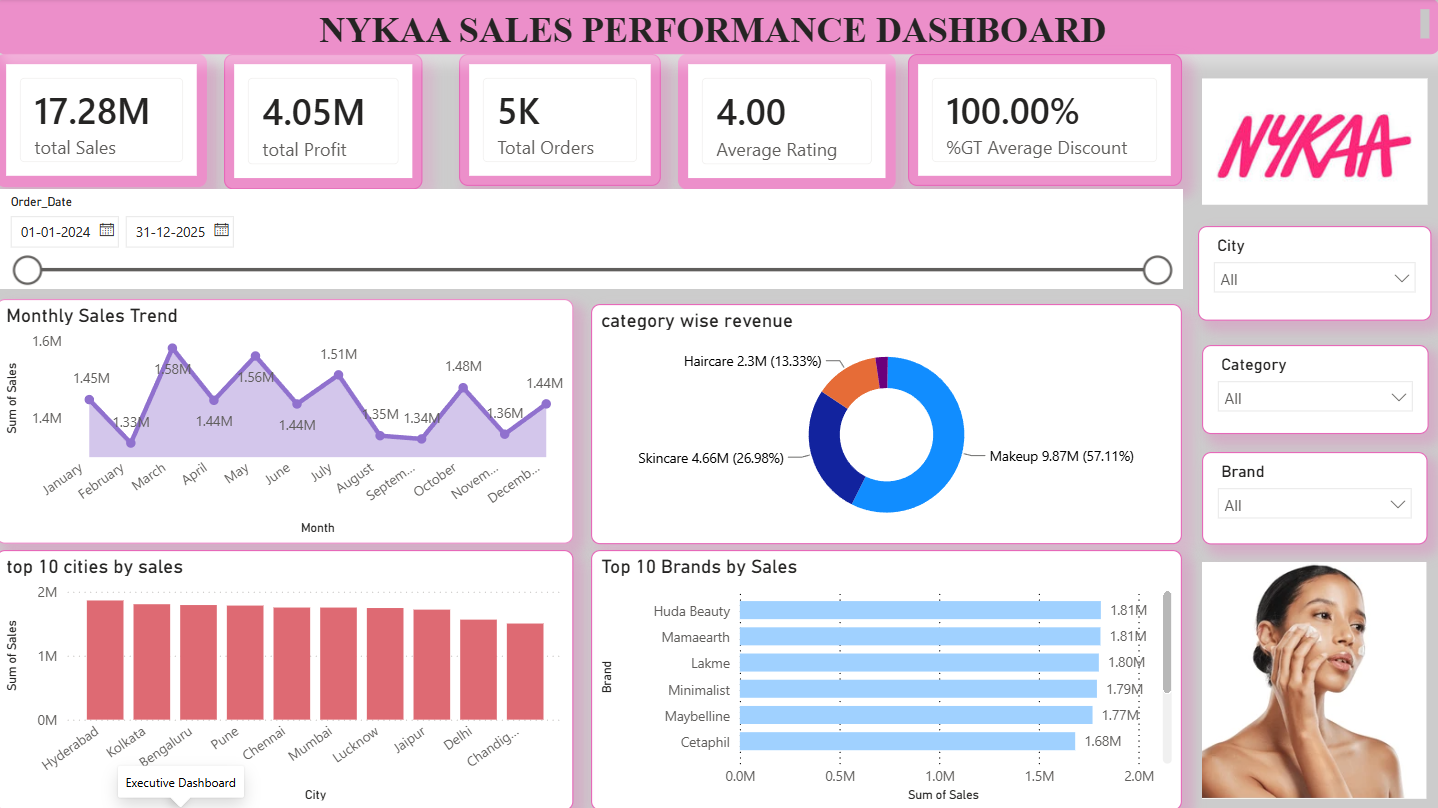

What the dashboard file says about the page in this screenshot:
{"tool":"powerbi","page":{"name":"Executive Dashboard","canvas":[1280,720],"ordinal":0},"visuals":[{"type":"cardVisual","title":"total sales","fields":{"Data":["Sum(Sales.Sales)"]},"box":[0,48.8,187.1,117.9],"z":0},{"type":"cardVisual","fields":{"Data":["Sum(Sales.Profit)"]},"box":[202.2,48.8,176.5,119.7],"z":1000},{"type":"cardVisual","fields":{"Data":["Sales.Total Orders"]},"box":[410.5,48.8,179.1,117],"z":2000},{"type":"cardVisual","fields":{"Data":["Avg(Sales.Rating)"]},"box":[604.7,48.8,193.3,119.7],"z":3000},{"type":"lineChart","title":"Monthly Sales Trend","fields":{"Y":["Sum(Sales.Sales)"],"Category":["Sales.Month"]},"box":[0,266,511.6,217.2],"z":4000},{"type":"donutChart","title":"category wise revenue","fields":{"Category":["Sales.Category"],"Y":["Sum(Sales.Sales)"]},"box":[527.6,270.4,524,212.8],"z":5000},{"type":"clusteredBarChart","title":"Top 10 Brands by Sales","fields":{"Y":["Sum(Sales.Sales)"],"Category":["Sales.Brand"]},"box":[527.6,488.6,524,231.4],"z":6000},{"type":"clusteredColumnChart","title":"top 10 cities by sales","fields":{"Category":["Sales.City"],"Y":["Sum(Sales.Sales)"]},"box":[0,488.6,511.6,231.4],"z":7000},{"type":"textbox","box":[0,0,1279.5,48.8],"z":8000},{"type":"slicer","fields":{"Values":["Sales.Category"]},"box":[1069.4,306.8,201.3,78.9],"z":9000},{"type":"slicer","fields":{"Values":["Sales.Brand"]},"box":[1069.4,401.7,200.4,81.6],"z":10000},{"type":"slicer","fields":{"Values":["Sales.City"]},"box":[1065.8,201.3,207.5,84.2],"z":11000},{"type":"cardVisual","fields":{"Data":["Sales.Average Discount"]},"box":[808.7,48.8,243,117],"z":12000},{"type":"slicer","fields":{"Values":["Sales.Order_Date"]},"box":[0,168.5,1051.6,87.8],"z":13000},{"type":"image","box":[1069.4,51.4,200.4,149.9],"z":14000},{"type":"image","box":[1069.4,499.2,199.5,210.1],"z":15000}]}

Visuals, with their boxes on the page's 1280x720 design canvas (x1, y1, x2, y2). These are canvas units, not pixel positions in the 1438x808 screenshot, which may show the page scaled, cropped or inside an application window:
"total sales" cardVisual: {"left": 0, "top": 49, "right": 187, "bottom": 167}
cardVisual - Sum(Sales.Profit): {"left": 202, "top": 49, "right": 379, "bottom": 168}
cardVisual - Sales.Total Orders: {"left": 410, "top": 49, "right": 590, "bottom": 166}
cardVisual - Avg(Sales.Rating): {"left": 605, "top": 49, "right": 798, "bottom": 168}
"Monthly Sales Trend" lineChart: {"left": 0, "top": 266, "right": 512, "bottom": 483}
"category wise revenue" donutChart: {"left": 528, "top": 270, "right": 1052, "bottom": 483}
"Top 10 Brands by Sales" clusteredBarChart: {"left": 528, "top": 489, "right": 1052, "bottom": 720}
"top 10 cities by sales" clusteredColumnChart: {"left": 0, "top": 489, "right": 512, "bottom": 720}
textbox: {"left": 0, "top": 0, "right": 1280, "bottom": 49}
slicer - Sales.Category: {"left": 1069, "top": 307, "right": 1271, "bottom": 386}
slicer - Sales.Brand: {"left": 1069, "top": 402, "right": 1270, "bottom": 483}
slicer - Sales.City: {"left": 1066, "top": 201, "right": 1273, "bottom": 286}
cardVisual - Sales.Average Discount: {"left": 809, "top": 49, "right": 1052, "bottom": 166}
slicer - Sales.Order_Date: {"left": 0, "top": 168, "right": 1052, "bottom": 256}
image: {"left": 1069, "top": 51, "right": 1270, "bottom": 201}
image: {"left": 1069, "top": 499, "right": 1269, "bottom": 709}
